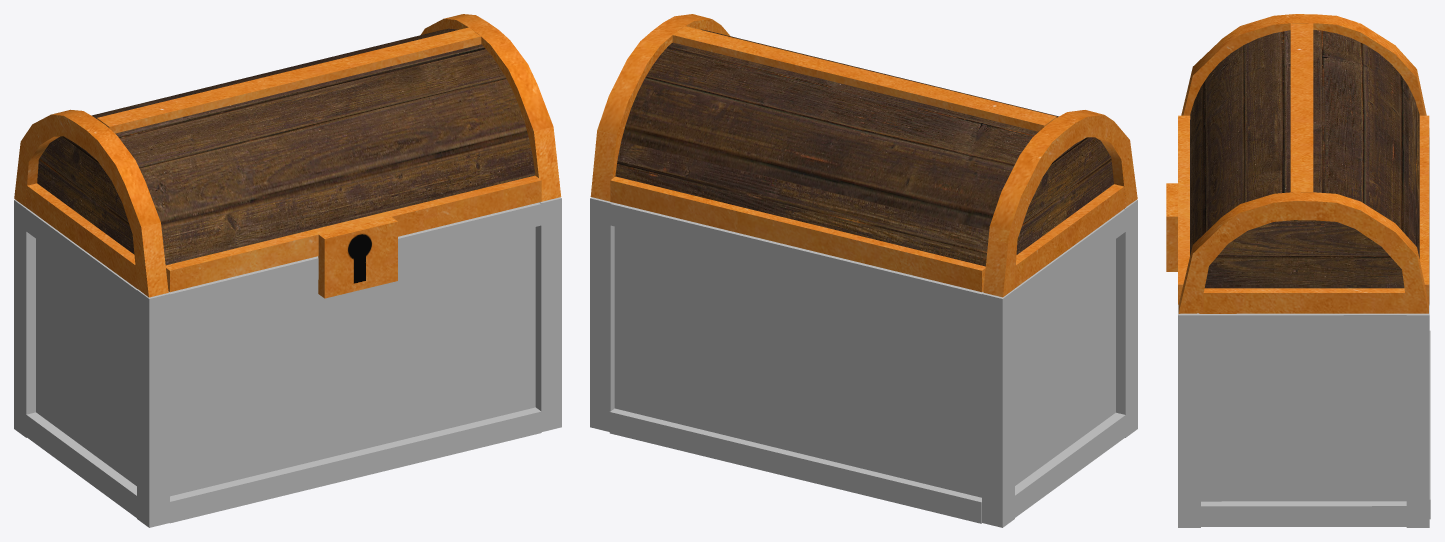
Rendered from chest.fbx.
3 views of the same model, side by side, from view 1: azimuth 30°, elevation 25°; view 2: azimuth 150°, elevation 25°; view 3: azimuth 270°, elevation 25° (orthographic). The views are drawn at different scales.
Visible parts, largest first — view 1: polySurface26, pCube49; view 2: polySurface26, pCube49; view 3: pCube49, polySurface26.
Part boxes in pixels (x1,y1,x2,y2): polySurface26: (14, 197, 561, 527); pCube49: (14, 14, 561, 298); polySurface26: (590, 197, 1137, 527); pCube49: (590, 14, 1137, 297); pCube49: (1166, 14, 1429, 313); polySurface26: (1178, 128, 1430, 527).
Bounding box in the file's own units: 10.49 × 8.56 × 6.26.
